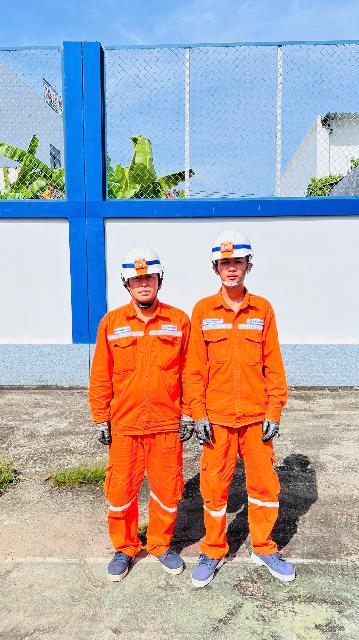gloves: (88, 417, 117, 445), (195, 410, 215, 447), (261, 414, 280, 445), (174, 414, 191, 445)
helmet: (202, 224, 268, 283), (119, 237, 165, 288)
shoes: (250, 544, 305, 590), (91, 530, 137, 578), (188, 539, 227, 587), (147, 538, 186, 574)
